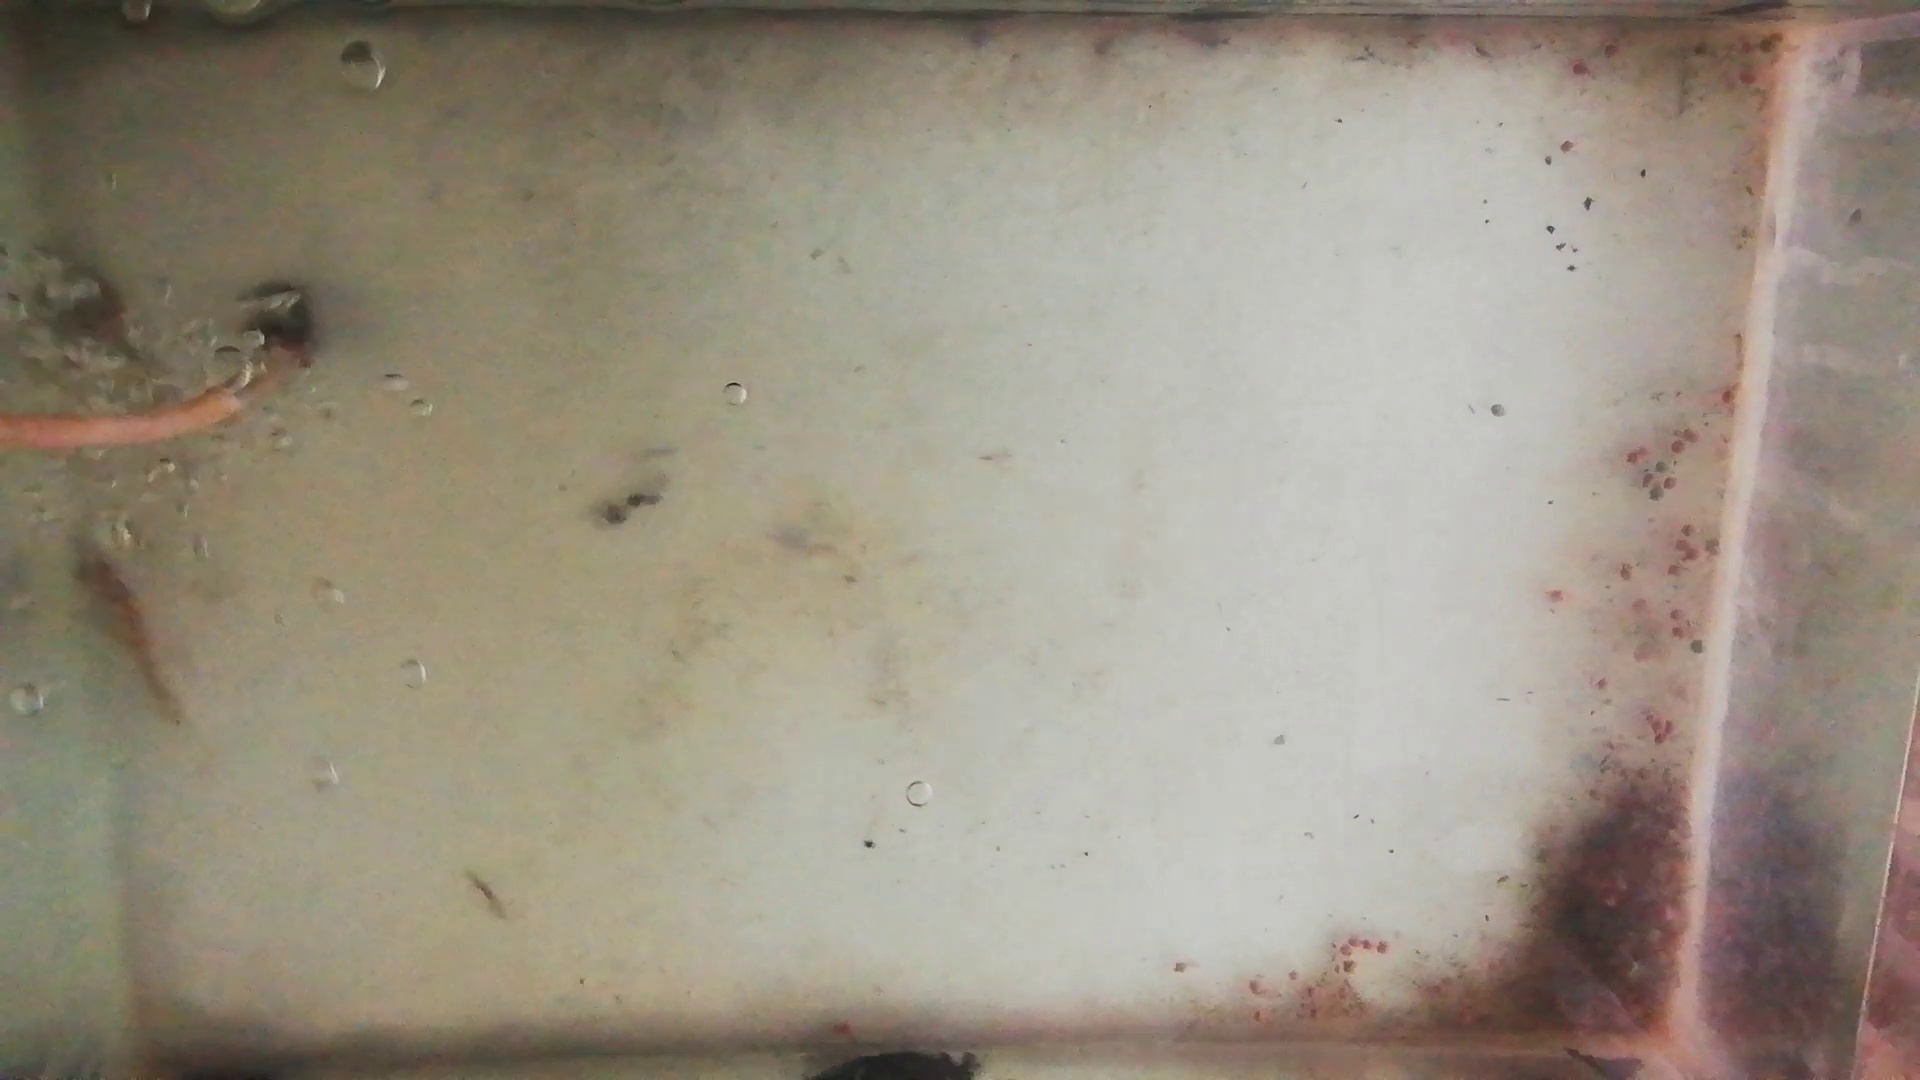fish: (69, 530, 185, 715), (47, 247, 148, 386)
